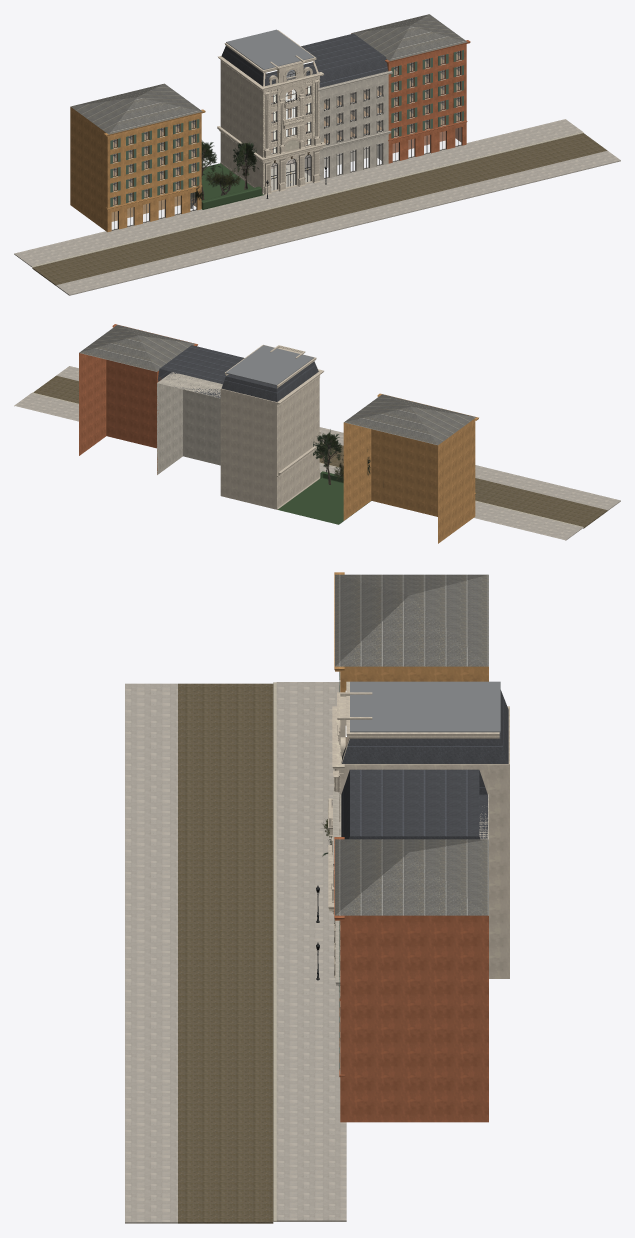
Rendered from palazzo.glb.
The picture shows the model from 3 angles, top to bottom: view 1: azimuth 30°, elevation 25°; view 2: azimuth 150°, elevation 25°; view 3: azimuth 270°, elevation 25°; orthographic projection. The views are drawn at different scales.
Parts seen in each view (by area): view 1: LM_Contesto, LM_Strada, LM_Palazzo, LM_Interni, Albero11, Albero01, Albero21; view 2: LM_Contesto, LM_Strada, LM_Palazzo, MuroRetro, Albero00; view 3: LM_Strada, LM_Contesto, LM_Palazzo, MuroLatoDx.
Part boxes in pixels (x1=…): LM_Contesto: x1=70, y1=14, x2=470, y2=232; LM_Strada: x1=14, y1=119, x2=620, y2=295; LM_Palazzo: x1=217, y1=29, x2=325, y2=195; LM_Interni: x1=113, y1=51, x2=459, y2=204; Albero11: x1=205, y1=170, x2=240, y2=195; Albero01: x1=233, y1=142, x2=258, y2=189; Albero21: x1=201, y1=141, x2=221, y2=200; LM_Contesto: x1=79, y1=324, x2=478, y2=543; LM_Strada: x1=14, y1=366, x2=620, y2=540; LM_Palazzo: x1=221, y1=344, x2=324, y2=509; MuroRetro: x1=220, y1=389, x2=278, y2=509; Albero00: x1=313, y1=433, x2=343, y2=484; LM_Strada: x1=125, y1=682, x2=346, y2=1223; LM_Contesto: x1=333, y1=572, x2=488, y2=1122; LM_Palazzo: x1=328, y1=681, x2=509, y2=977; MuroLatoDx: x1=346, y1=762, x2=509, y2=978.
Bounding box in the file's own units: 120 × 25.91 × 36.3.
Materials: 32 (19 with a texture image).
